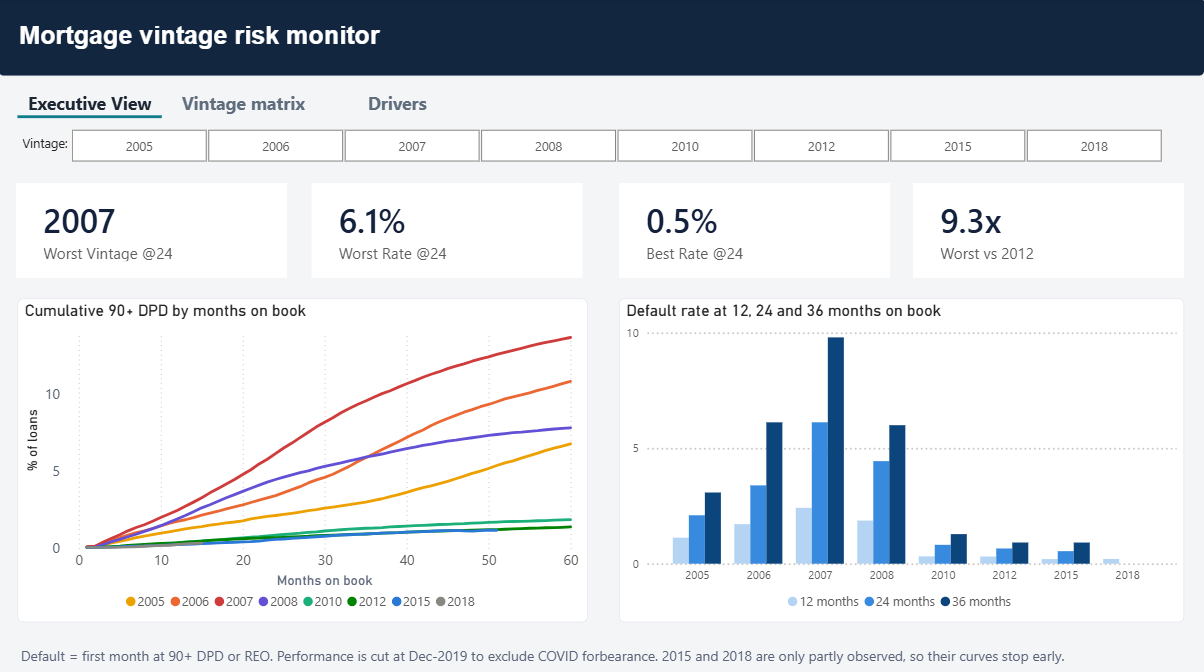

The page's visual inventory and layout, read from the dashboard file:
{"tool":"powerbi","page":{"name":"Executive View","canvas":[1280,720],"ordinal":0},"visuals":[{"type":"textbox","box":[0,0,1280.8,84.2],"z":0},{"type":"pageNavigator","box":[20.7,95,480.4,33.4],"z":1000},{"type":"cardVisual","fields":{"Data":["vintage_curves.Worst Vintage @24"]},"box":[19.2,196.6,287,100.7],"z":2000},{"type":"cardVisual","fields":{"Data":["vintage_curves.Best Rate @24 Label"]},"box":[658.4,196.6,287,100.7],"z":3000},{"type":"cardVisual","fields":{"Data":["vintage_curves.Worst vs 2012"]},"box":[970,196.6,287.6,100.7],"z":4000},{"type":"cardVisual","fields":{"Data":["vintage_curves.Worst Rate @24 Label"]},"box":[332.4,196.6,287.6,100.7],"z":5000},{"type":"lineChart","title":"Cumulative 90+ DPD by months on book","fields":{"Category":["vintage_curves.mob"],"Y":["vintage_curves.Default Rate %"],"Series":["vintage_curves.vintage"]},"box":[20.7,319.7,604.4,343.6],"z":6000},{"type":"clusteredColumnChart","title":"Default rate at 12, 24 and 36 months on book","fields":{"Category":["vintage_curves.vintage"],"Y":["vintage_curves.Rate @12","vintage_curves.Rate @24","vintage_curves.Rate @36"]},"box":[658.5,319.7,599.7,343.6],"z":7000},{"type":"slicer","fields":{"Values":["vintage_curves.vintage"]},"box":[53,133,1205.4,47.9],"z":8000},{"type":"textbox","box":[19.1,682.4,1239.1,38.2],"z":9000},{"type":"textbox","box":[20.5,140,244.5,37.6],"z":10000}]}

Visuals, with their boxes in screenshot pixels (x1, y1, x2, y2), scaled from the page's 1280x720 canvas onto the 1204x672 screenshot:
textbox: 0,0,1203,79
pageNavigator: 19,89,471,120
cardVisual - vintage_curves.Worst Vintage @24: 18,183,288,277
cardVisual - vintage_curves.Best Rate @24 Label: 619,183,889,277
cardVisual - vintage_curves.Worst vs 2012: 912,183,1183,277
cardVisual - vintage_curves.Worst Rate @24 Label: 313,183,583,277
"Cumulative 90+ DPD by months on book" lineChart: 19,298,588,619
"Default rate at 12, 24 and 36 months on book" clusteredColumnChart: 619,298,1183,619
slicer - vintage_curves.vintage: 50,124,1184,169
textbox: 18,637,1183,671
textbox: 19,131,249,166
